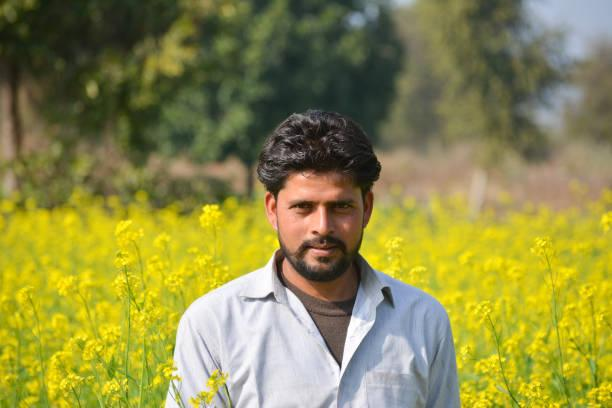Human: (143, 60, 467, 403)
